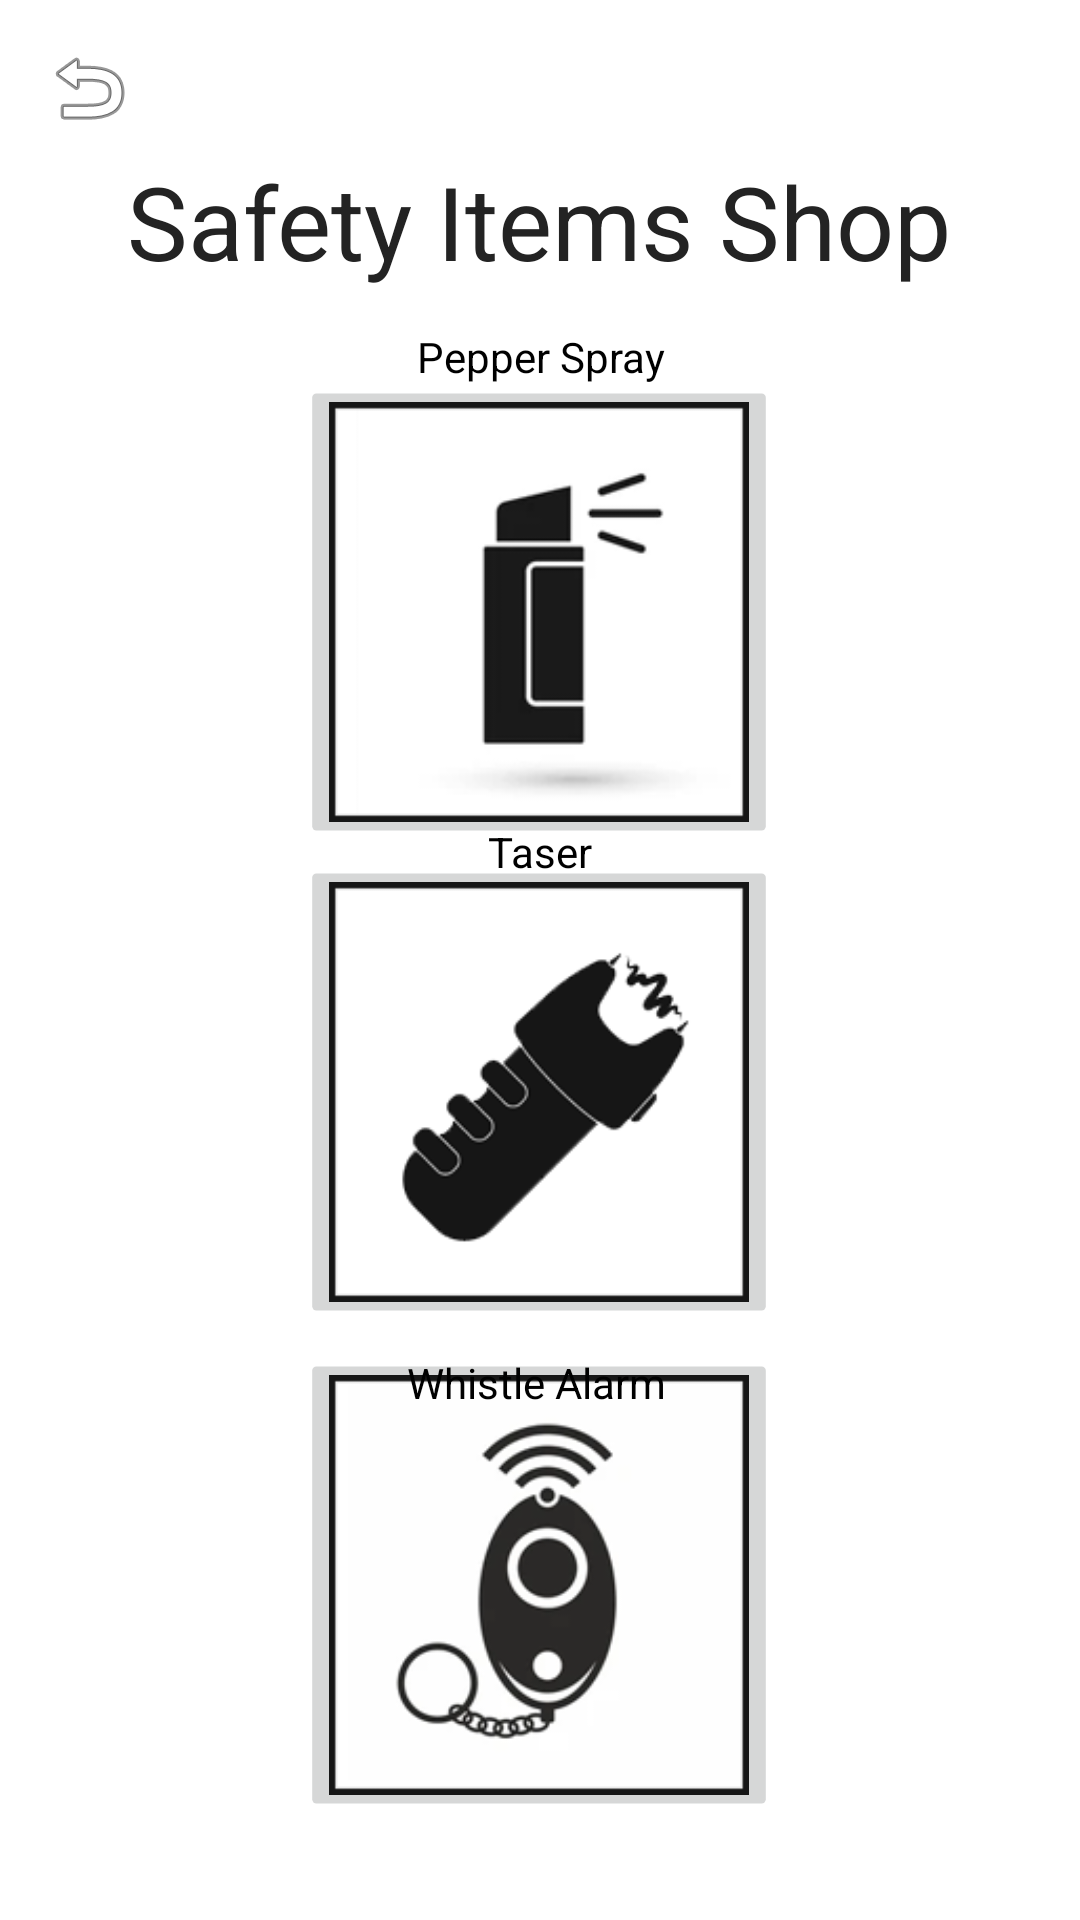

Locate icon controls on the screen. Image size 1080px×1920px, boxes as detection(x1, y1, x2, y2).
revert: detection(56, 57, 125, 120)
